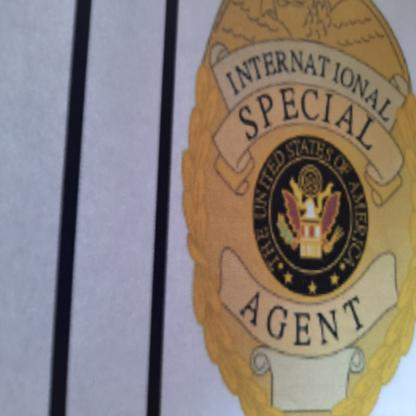G-man: (164, 1, 416, 416)
